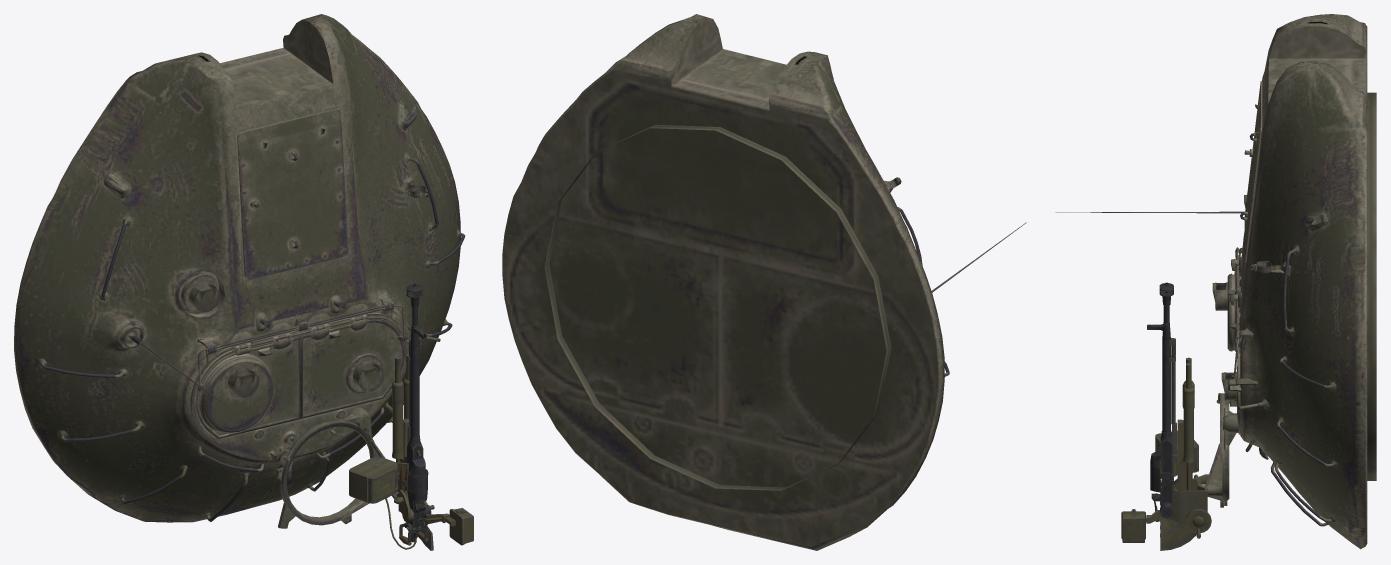
The model's file is Turret_02.glb.
3 views of the same model, side by side, from view 1: azimuth 30°, elevation 25°; view 2: azimuth 150°, elevation 25°; view 3: azimuth 270°, elevation 25° (orthographic). The views are drawn at different scales.
Parts seen in each view (by area): view 1: set_0_group_0; view 2: set_0_group_0; view 3: set_0_group_0.
Part boxes in pixels (x1,y1,x2,y2): set_0_group_0: (14, 14, 473, 550); set_0_group_0: (502, 14, 1026, 550); set_0_group_0: (1055, 14, 1376, 550).
Size of the model in its own units: 2.93 by 3.1 by 1.89.
1 material, 1 textured.
